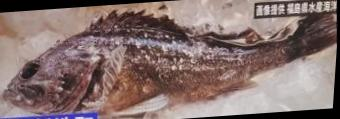fish: (5, 9, 336, 117)
